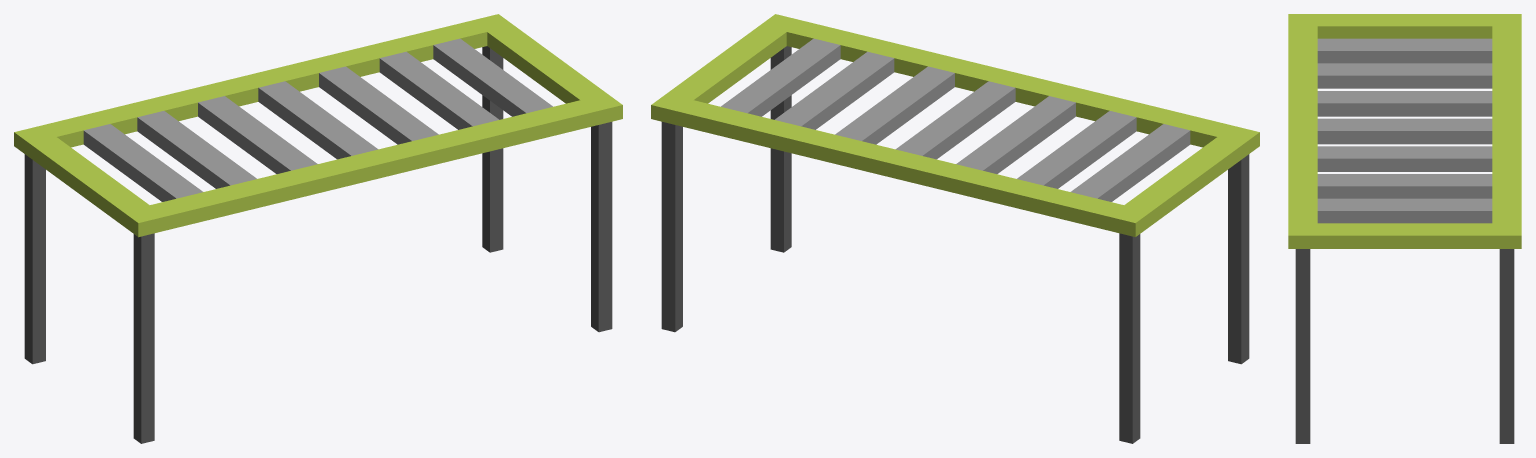
File: Stands.fbx
The picture shows the model from 3 angles, left to right: view 1: azimuth 30°, elevation 25°; view 2: azimuth 150°, elevation 25°; view 3: azimuth 270°, elevation 25°; orthographic projection. The views are drawn at different scales.
Parts seen in each view (by area): view 1: Stands; view 2: Stands; view 3: Stands.
Boxes of the visible parts, <box> form: Stands: <box>14,14,622,443</box>; Stands: <box>651,14,1259,443</box>; Stands: <box>1288,14,1521,443</box>.
Bounding box in the file's own units: 18 × 8 × 8.
